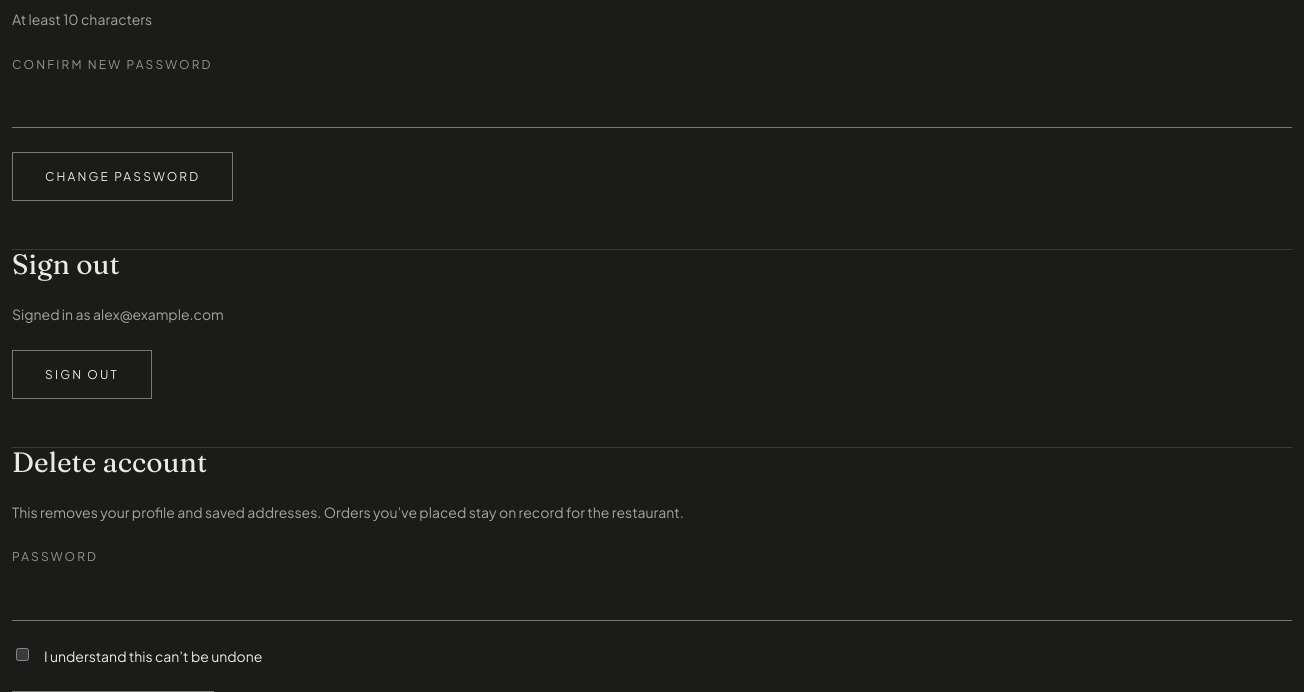
Test: AccountOverview › explains a failed sign out and keeps the account open
(page scrolled)
Click the button "Sign out" at (82, 374), box [12,350,152,399]
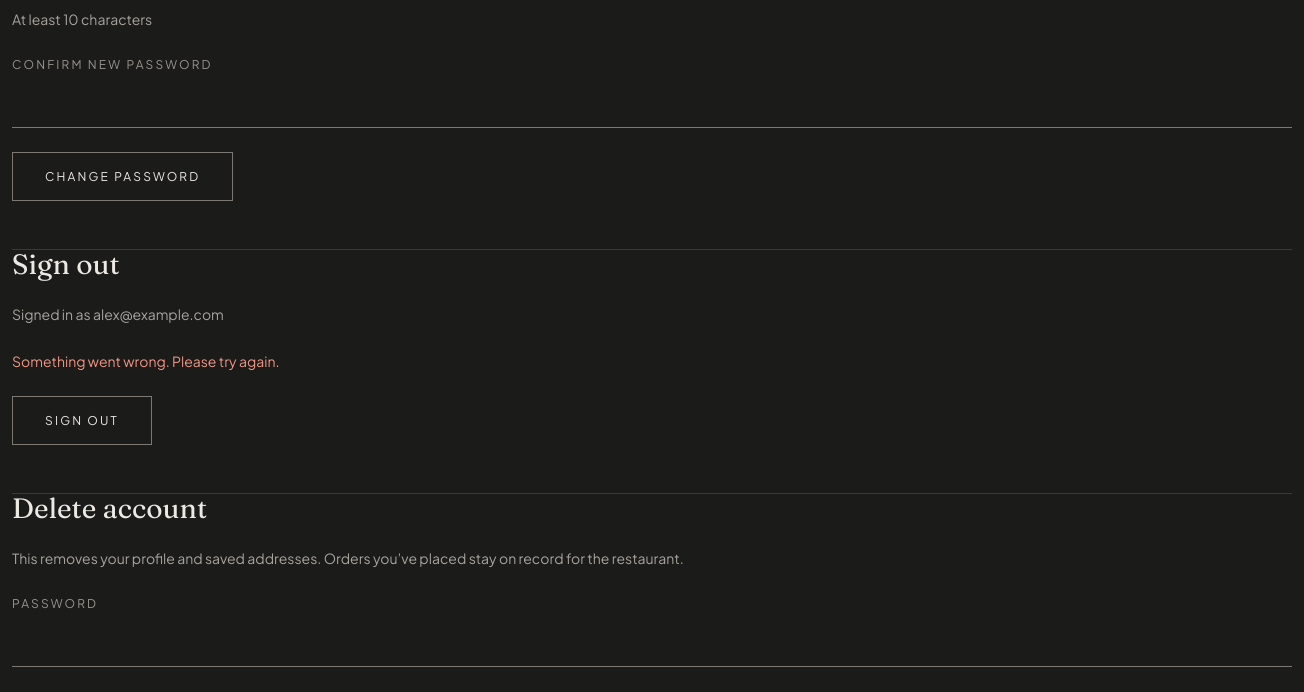
Expected: the button "Sign out" is enabled, [12,396,152,445]
Expected: the text "Something went wrong. Please try again." is shown, [12,352,279,370]
